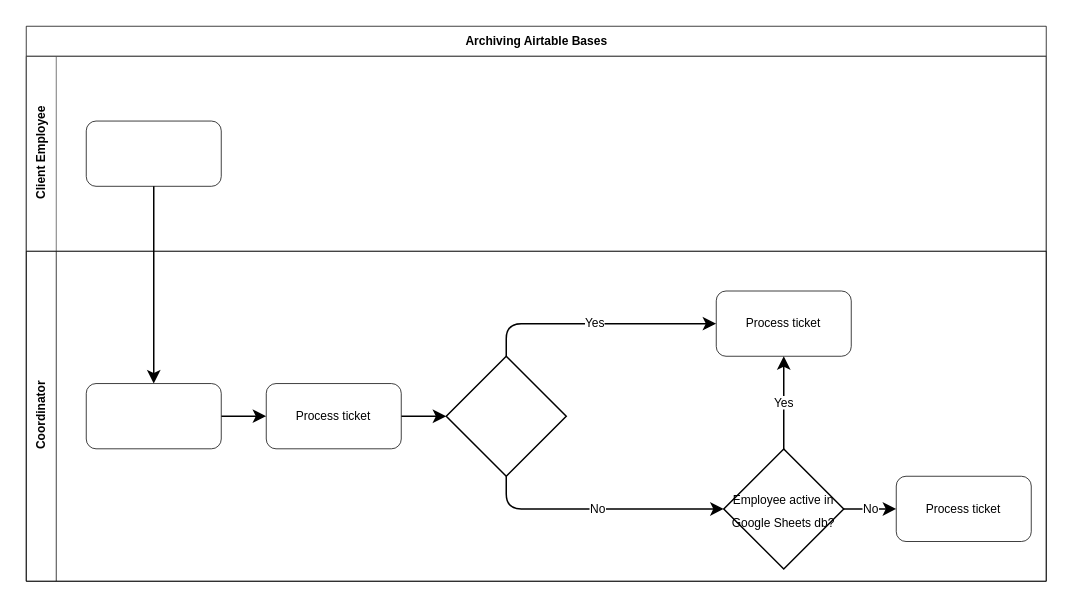
This 1073x608 diagram has some shape labels left out. The centre of each missing label's shape, as x and y in pixels:
"employee active in client db?" belongs at [505,415].
"Extract Order" belongs at [153,415].
"Submit Order" belongs at [153,153].
